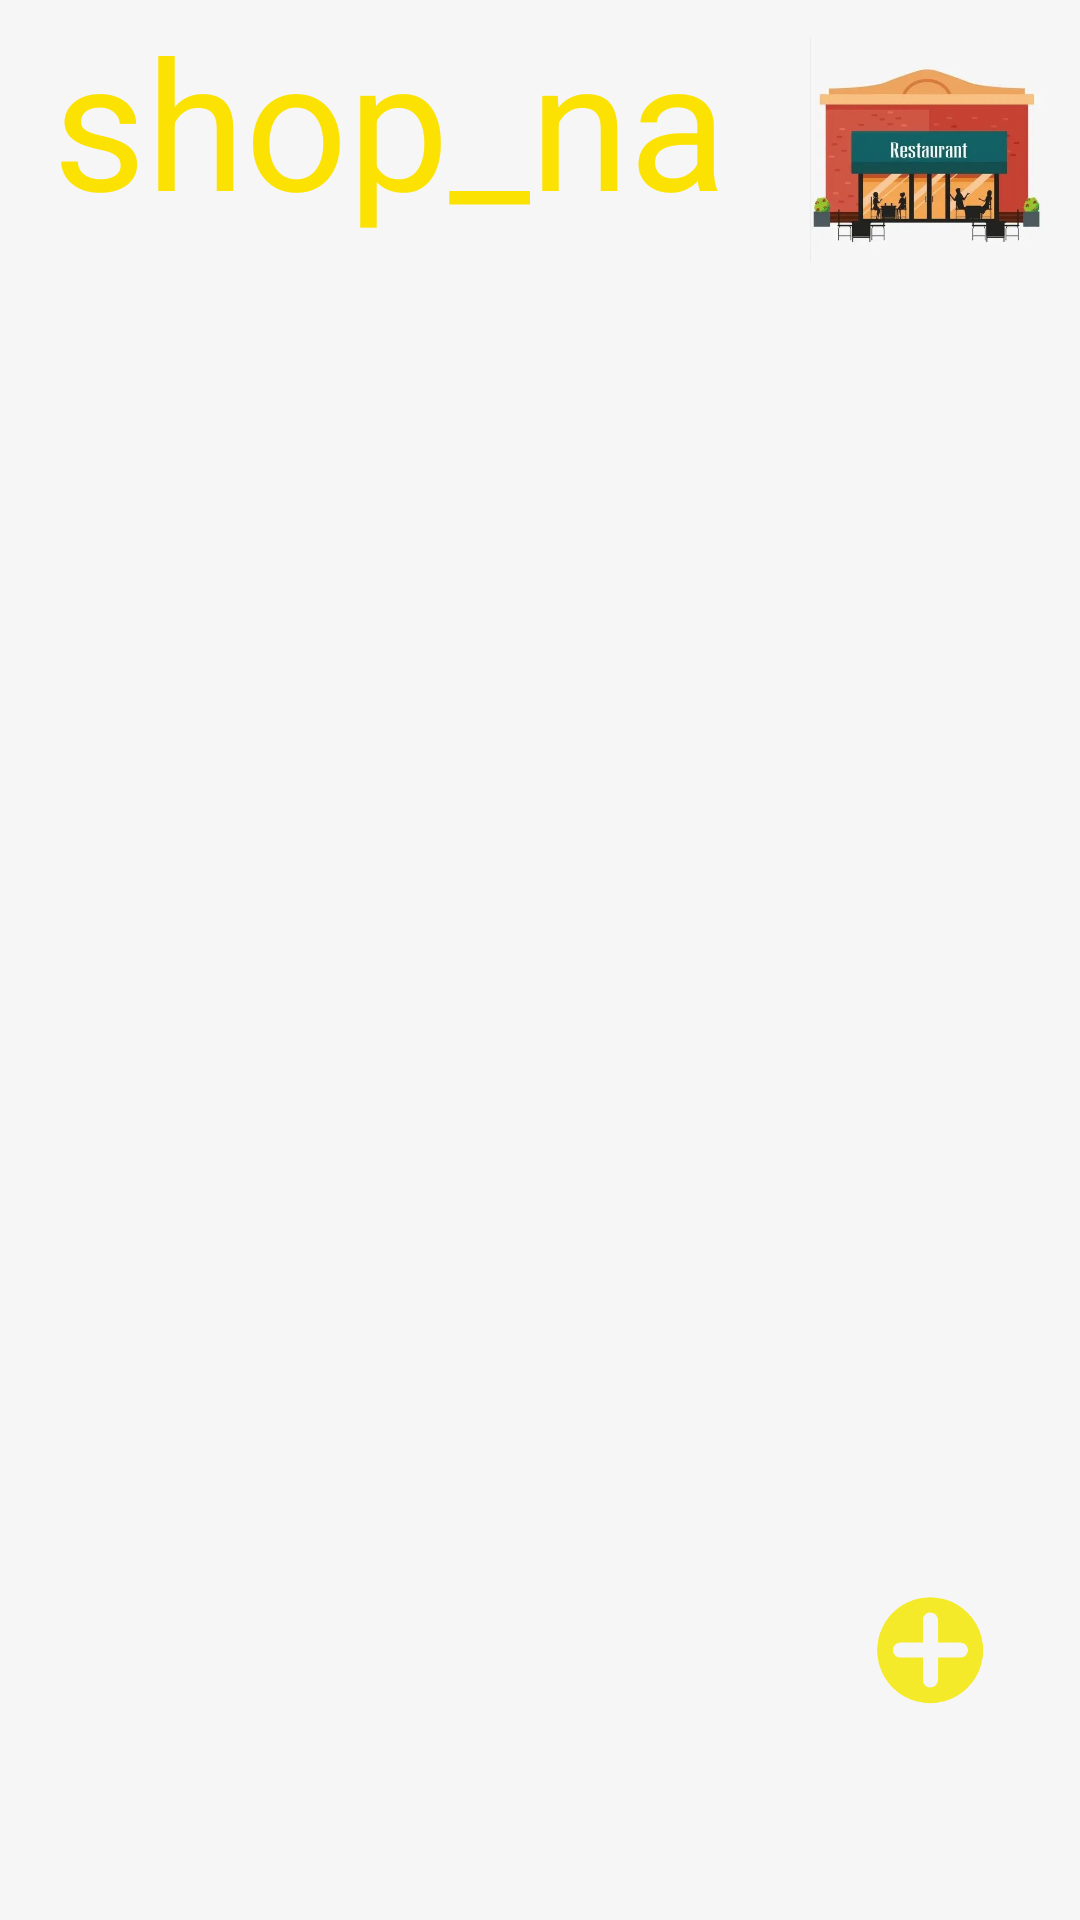

Screen size 1080×1920. Icon name, then its box in pixels as (x1, y1, x2, y2):
add: (877, 1597, 984, 1704)
